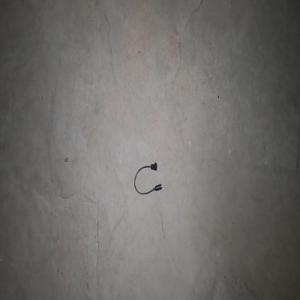Wire: (134, 162, 162, 194)
